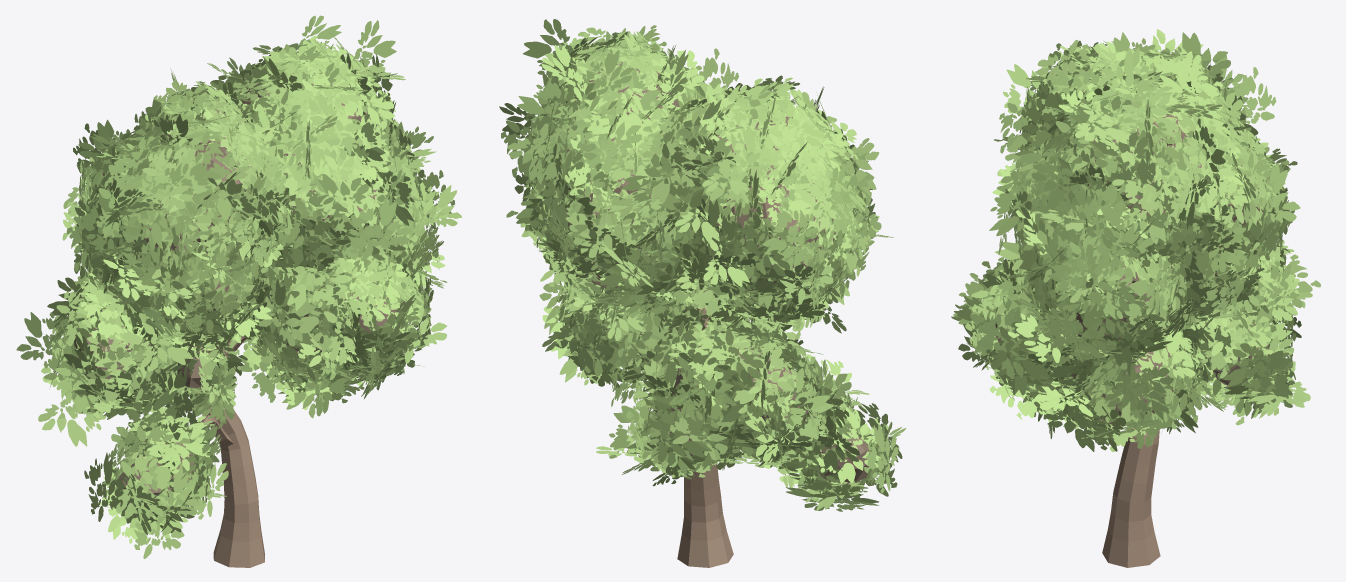
File: tree1.glb
The picture shows the model from 3 angles, left to right: view 1: azimuth 30°, elevation 25°; view 2: azimuth 150°, elevation 25°; view 3: azimuth 270°, elevation 25°; orthographic projection. The views are drawn at different scales.
Parts seen in each view (by area): view 1: Tree1 · ausgeschnittene Blätter, Tree1 · Stamm, Tree1 · Äste; view 2: Tree1 · ausgeschnittene Blätter, Tree1 · Stamm, Tree1 · Äste; view 3: Tree1 · ausgeschnittene Blätter, Tree1 · Stamm, Tree1 · Äste.
Part boxes in pixels (<box>): Tree1 · ausgeschnittene Blätter: <box>16,15,461,558</box>; Tree1 · Stamm: <box>200,335,264,567</box>; Tree1 · Äste: <box>74,72,406,517</box>; Tree1 · ausgeschnittene Blätter: <box>499,19,906,511</box>; Tree1 · Stamm: <box>677,289,733,567</box>; Tree1 · Äste: <box>556,61,870,484</box>; Tree1 · ausgeschnittene Blätter: <box>951,29,1320,451</box>; Tree1 · Stamm: <box>1102,426,1160,567</box>; Tree1 · Äste: <box>995,71,1269,426</box>.
Size of the model in its own units: 6 by 7.8 by 5.21.
3 materials, 1 textured.
